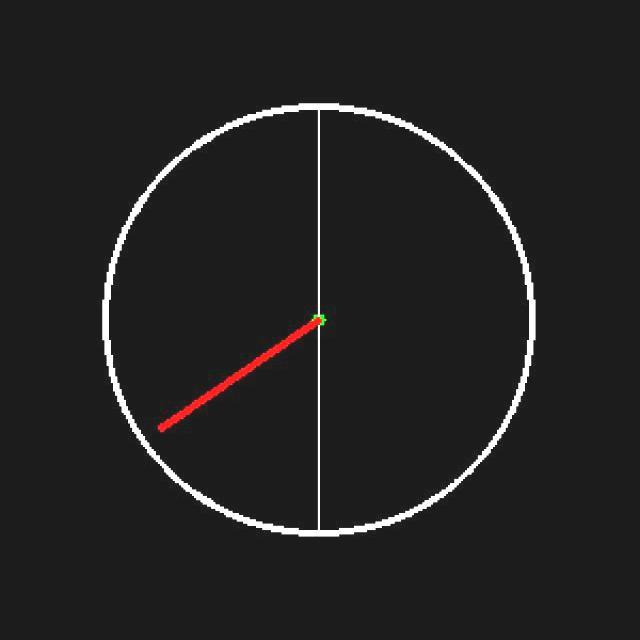Needle_Tip: (143, 404, 195, 443)
Needle_base: (284, 291, 348, 337)
